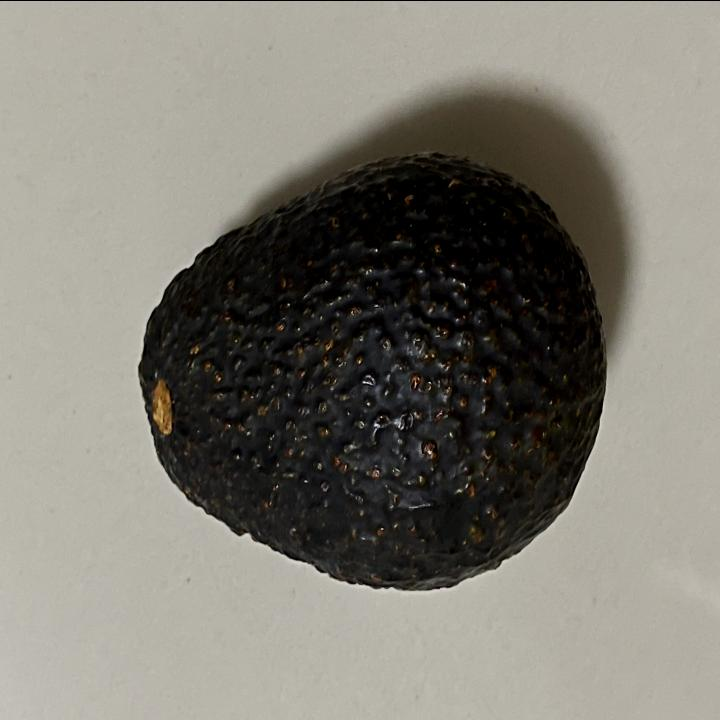Level2: (133, 143, 612, 600)
